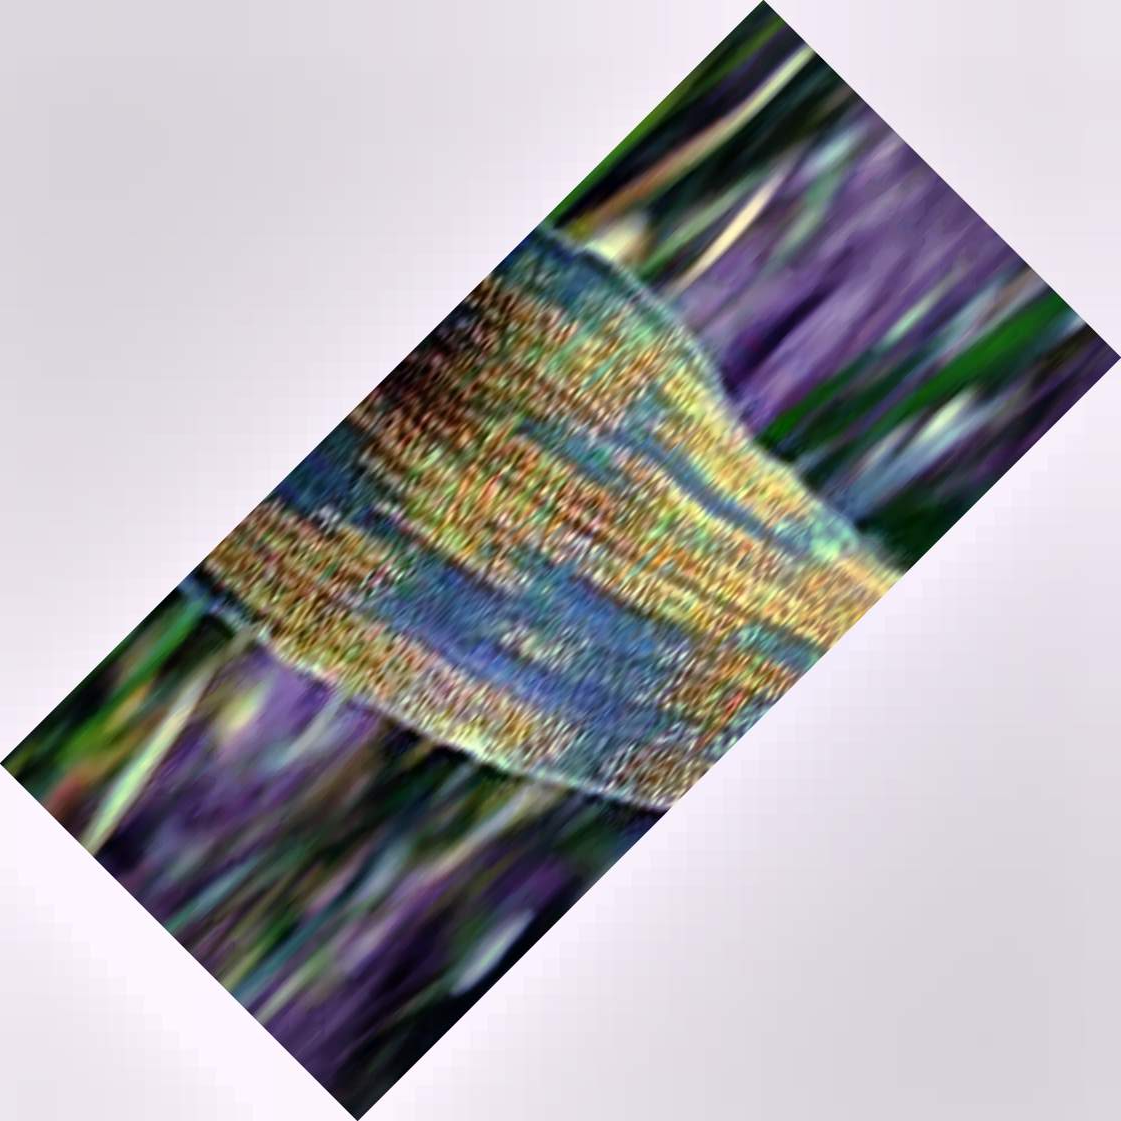Leaf Rust: (258, 275, 836, 670)
